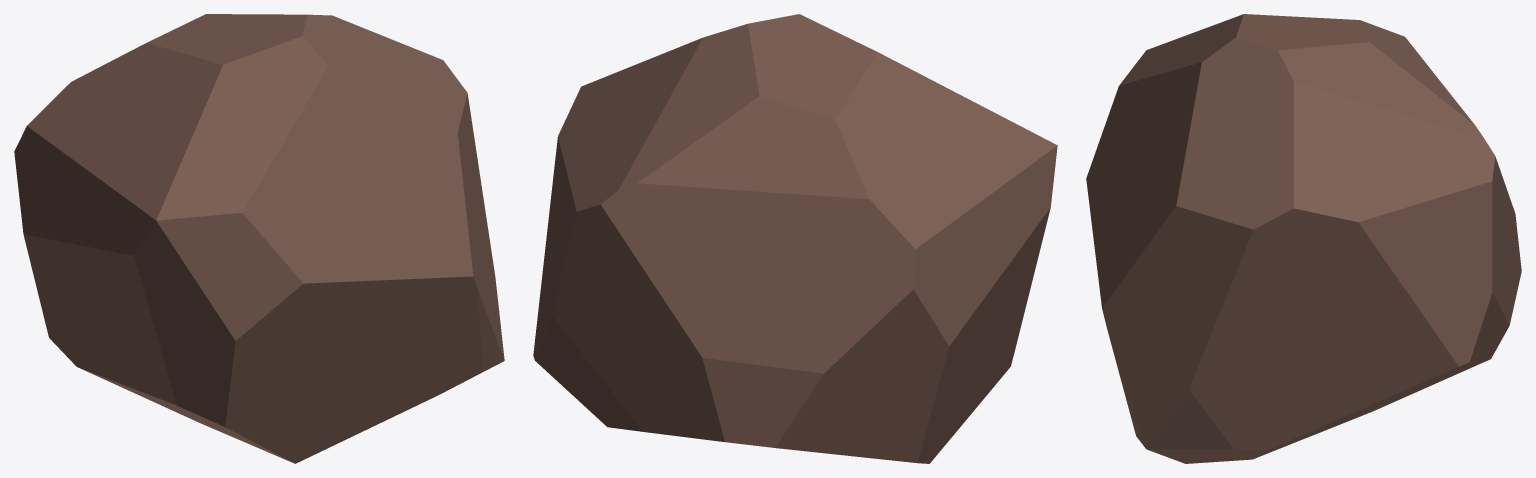
The model's file is island_rock_2.fbx.
3 views of the same model, side by side, from view 1: azimuth 30°, elevation 25°; view 2: azimuth 150°, elevation 25°; view 3: azimuth 270°, elevation 25° (orthographic). The views are drawn at different scales.
Visible parts, largest first — view 1: Icosphere; view 2: Icosphere; view 3: Icosphere.
Boxes of the visible parts, x1=… form: Icosphere: x1=14, y1=14, x2=504, y2=463; Icosphere: x1=533, y1=14, x2=1057, y2=463; Icosphere: x1=1086, y1=14, x2=1521, y2=463.
Bounding box in the file's own units: 1.58 × 1.53 × 1.55.
